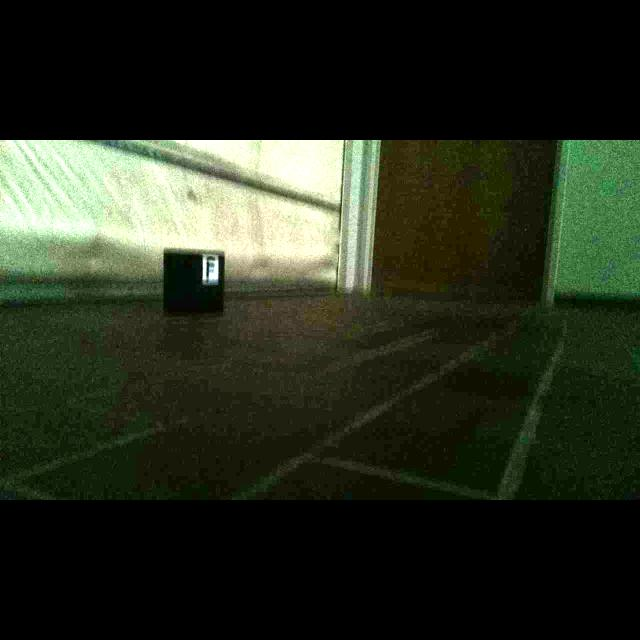F: (206, 256, 215, 279)
